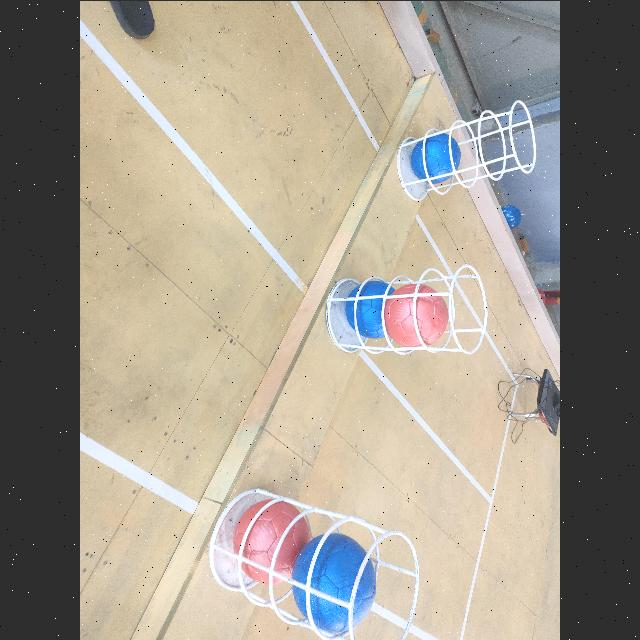B: (292, 534, 378, 630), (347, 278, 395, 336), (411, 132, 462, 182)
R: (236, 498, 312, 584), (386, 282, 448, 346)
